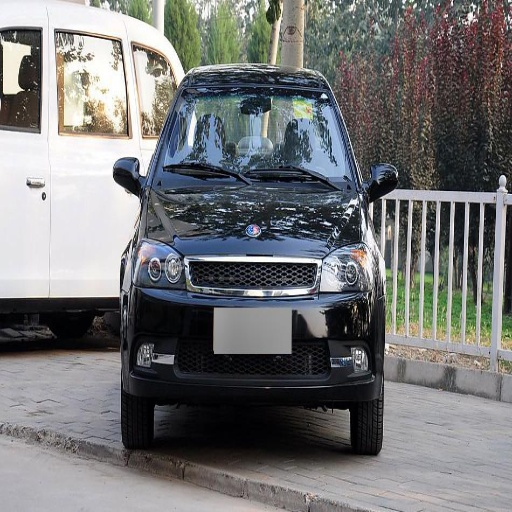front_bumper: (134, 254, 375, 402)
front_glass: (157, 74, 357, 195)
front_left_door: (2, 114, 49, 299)
front_right_light: (141, 238, 183, 286)
hood: (147, 175, 361, 261)
